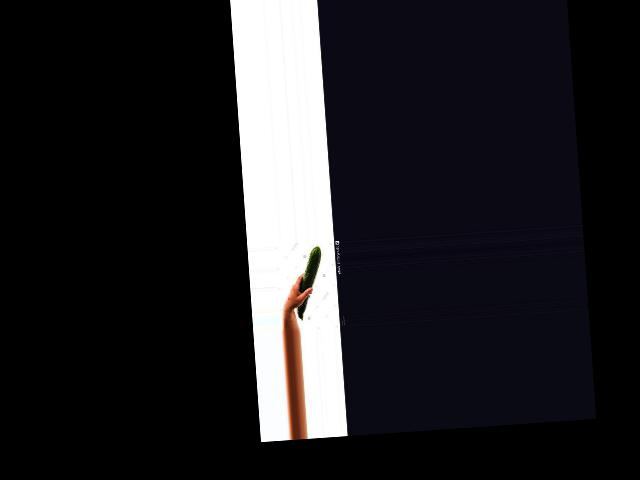cucumber: (292, 246, 325, 321)
